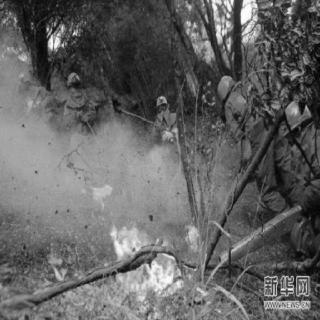Fire: (183, 218, 199, 248), (195, 284, 208, 298)
Smoke: (119, 150, 175, 217)
other: (218, 70, 318, 288), (9, 74, 60, 166), (64, 72, 110, 172), (151, 90, 197, 187)
